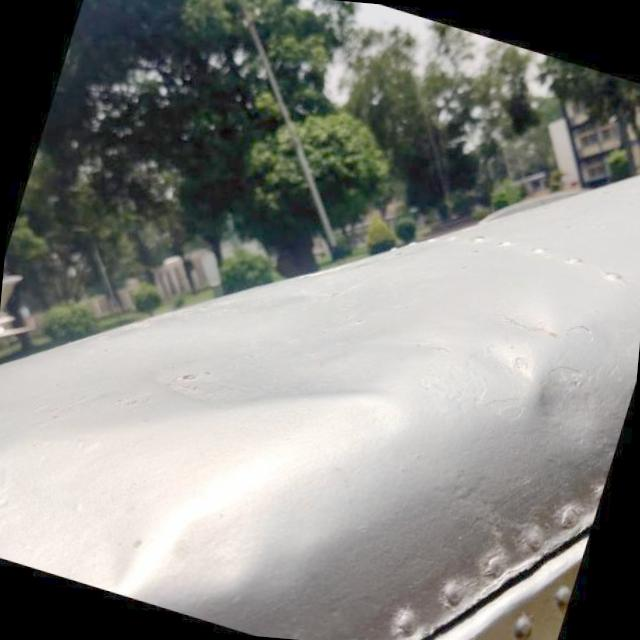dent: (108, 202, 486, 478), (508, 337, 638, 478), (462, 302, 580, 410)
